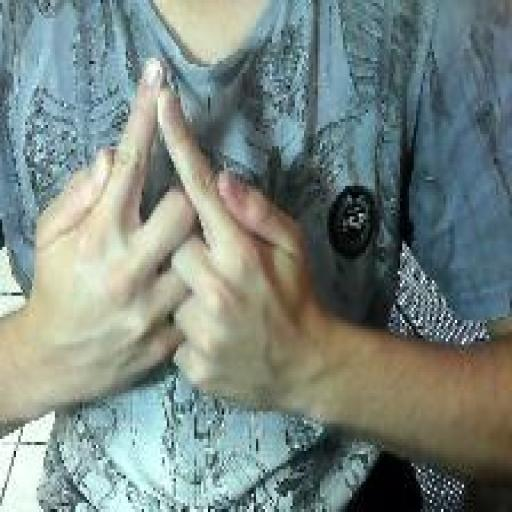Uma -horse-: (31, 52, 314, 424)
